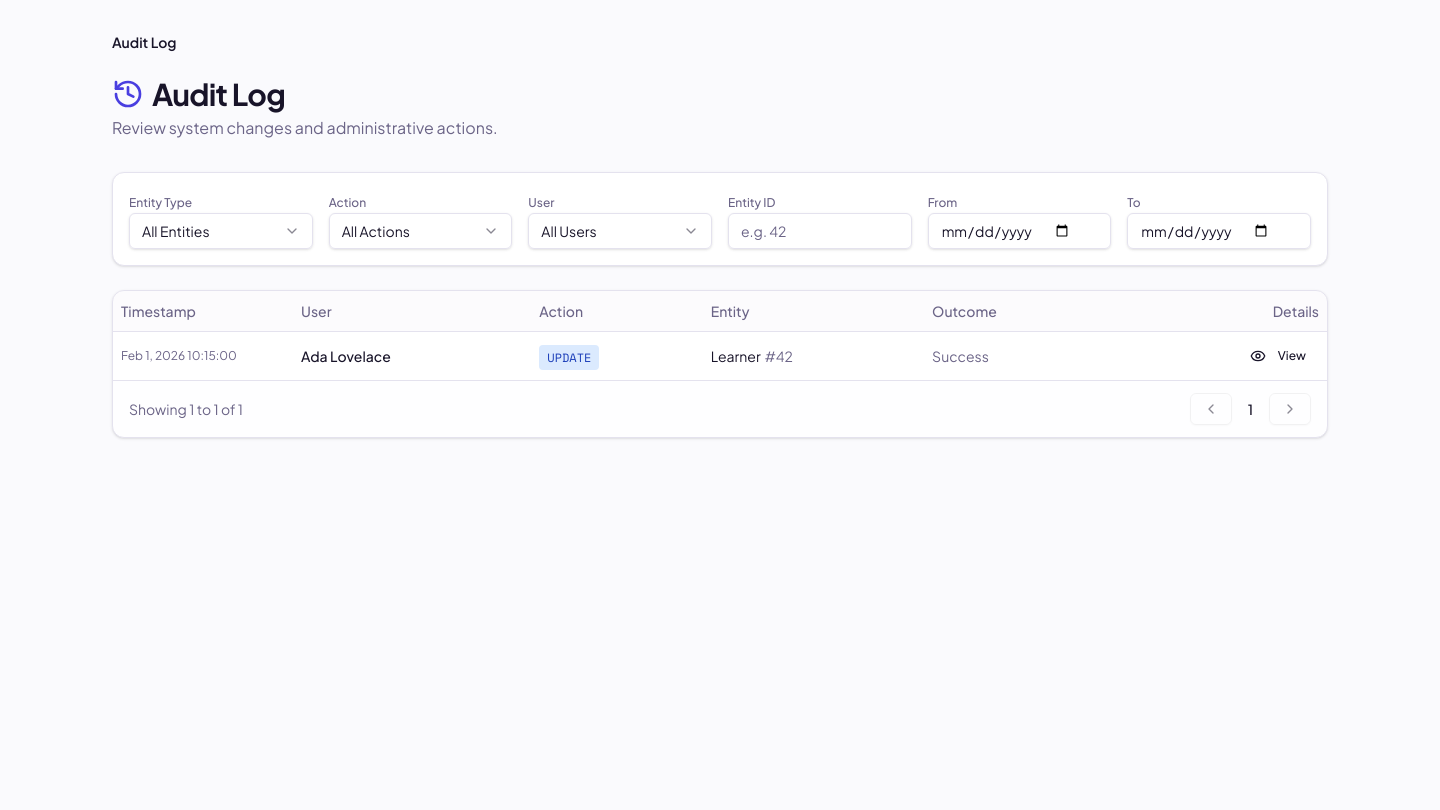
Scenario: AuditLogPage › shows a no-differences message when previous and new values are identical
Click the button "View" at {"x": 1278, "y": 356}, box [1237,340,1319,372]
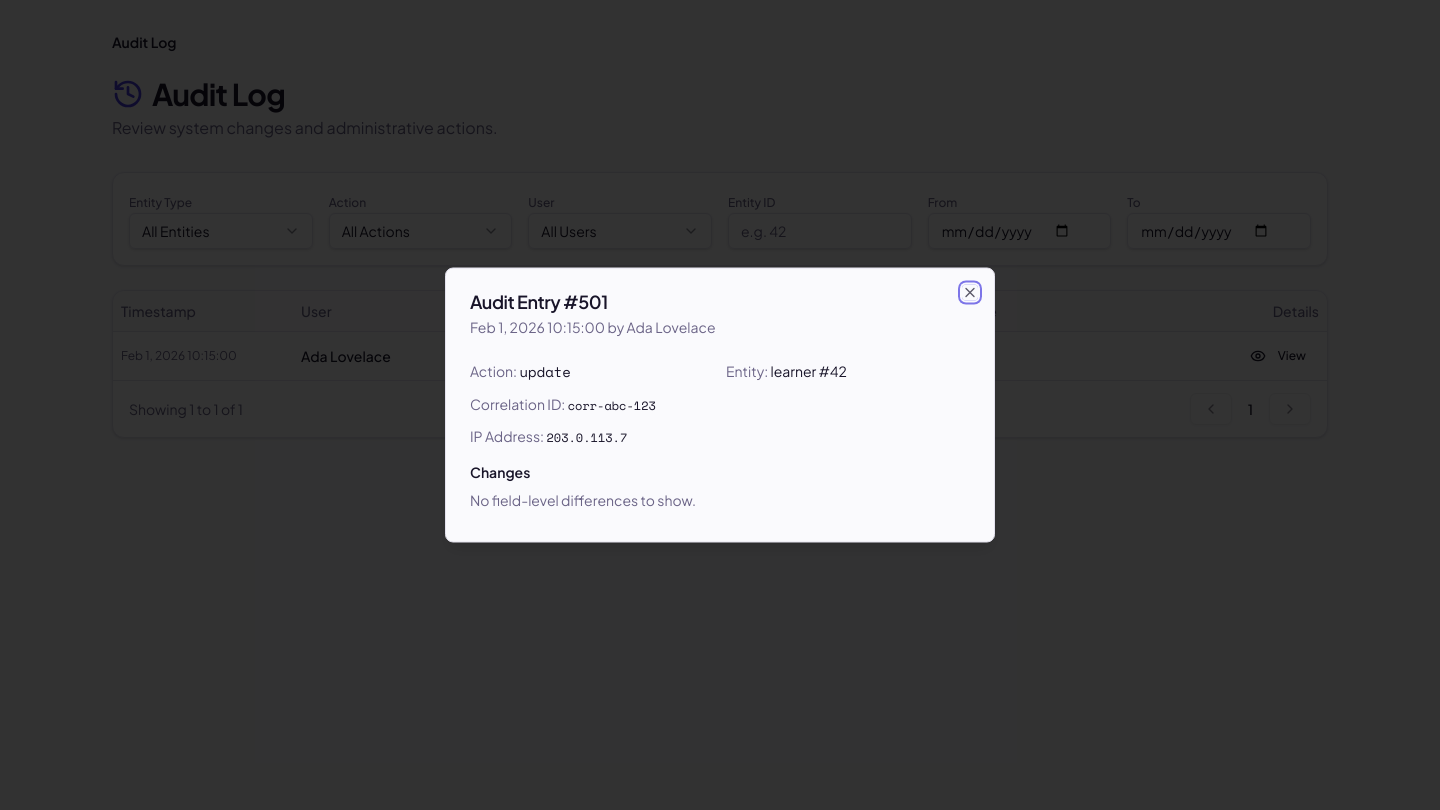
Now the text "No field-level differences to show." is shown, box [470,490,696,508]
